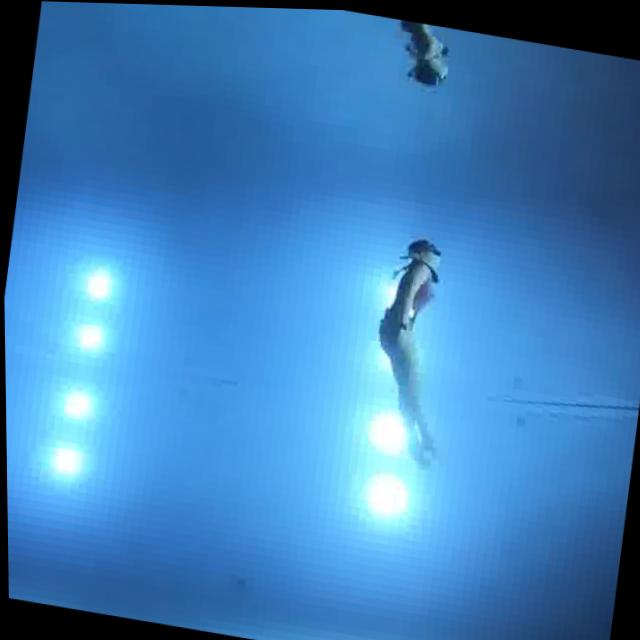human: (339, 215, 482, 502), (383, 16, 476, 98)
